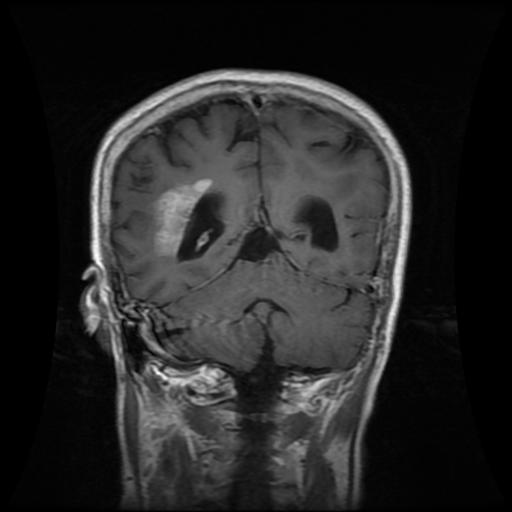Gliomia_tumour: (153, 178, 212, 255)
